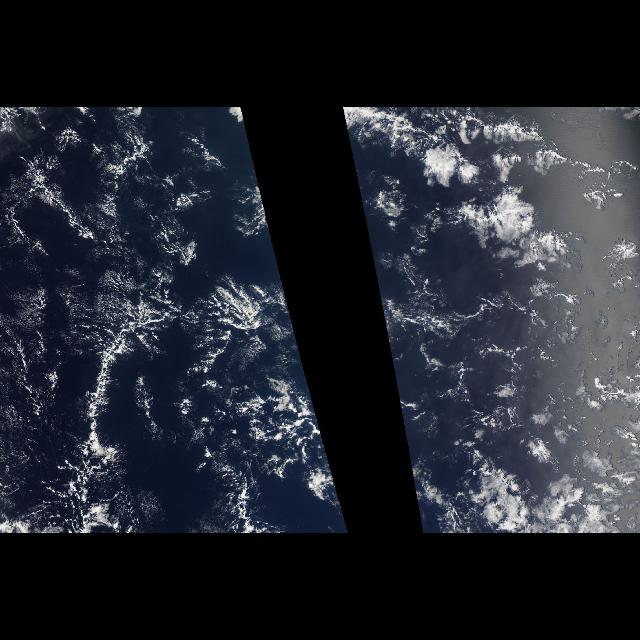Flower: (378, 116, 630, 284)
Sugar: (18, 280, 214, 354)
